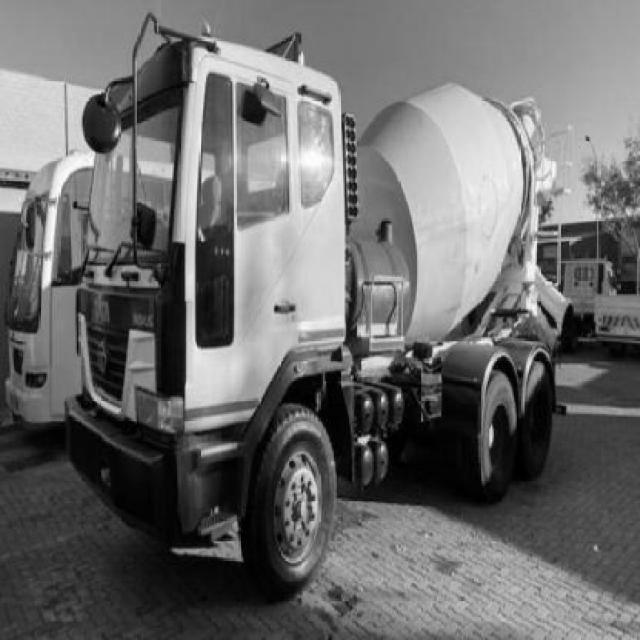Concrete Mixer: (63, 15, 571, 604)
